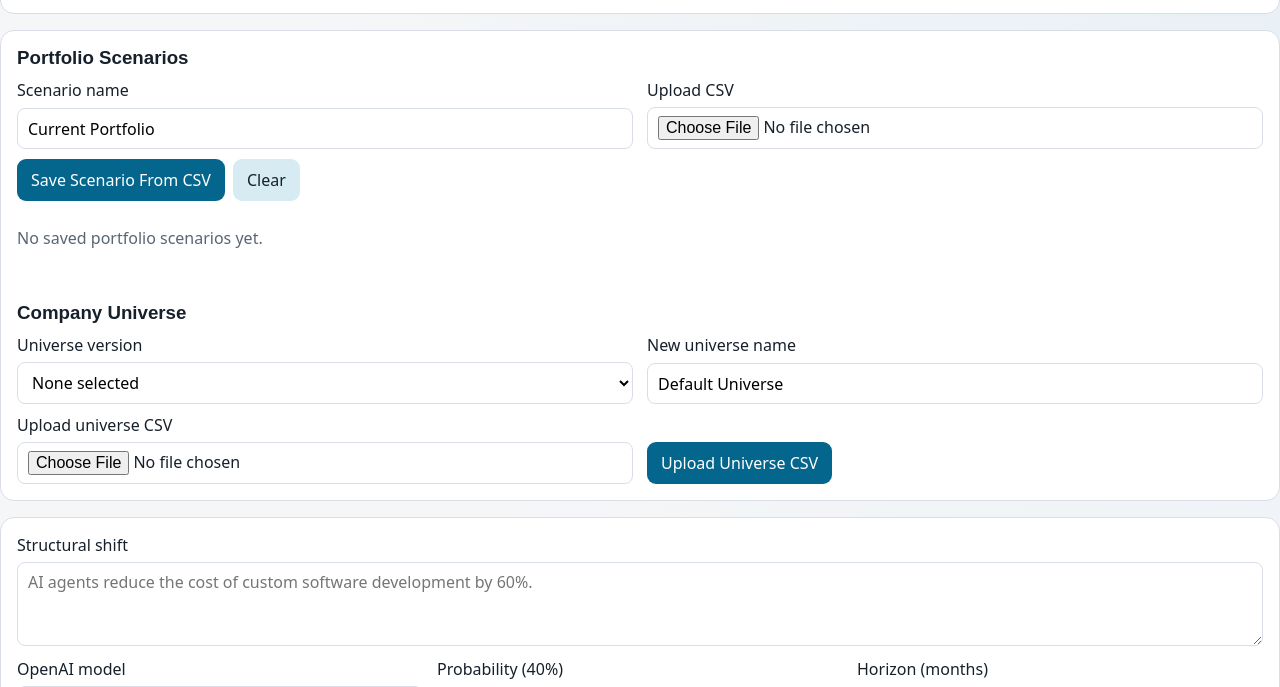
Scenario: SecondOrderEngine › submits and renders tabs/results
The image size is (1280, 687).
In the text box labelled "Structural shift": [640, 604] box [17, 562, 1263, 646], type "AI agents reduce costs materially."
(page scrolled)
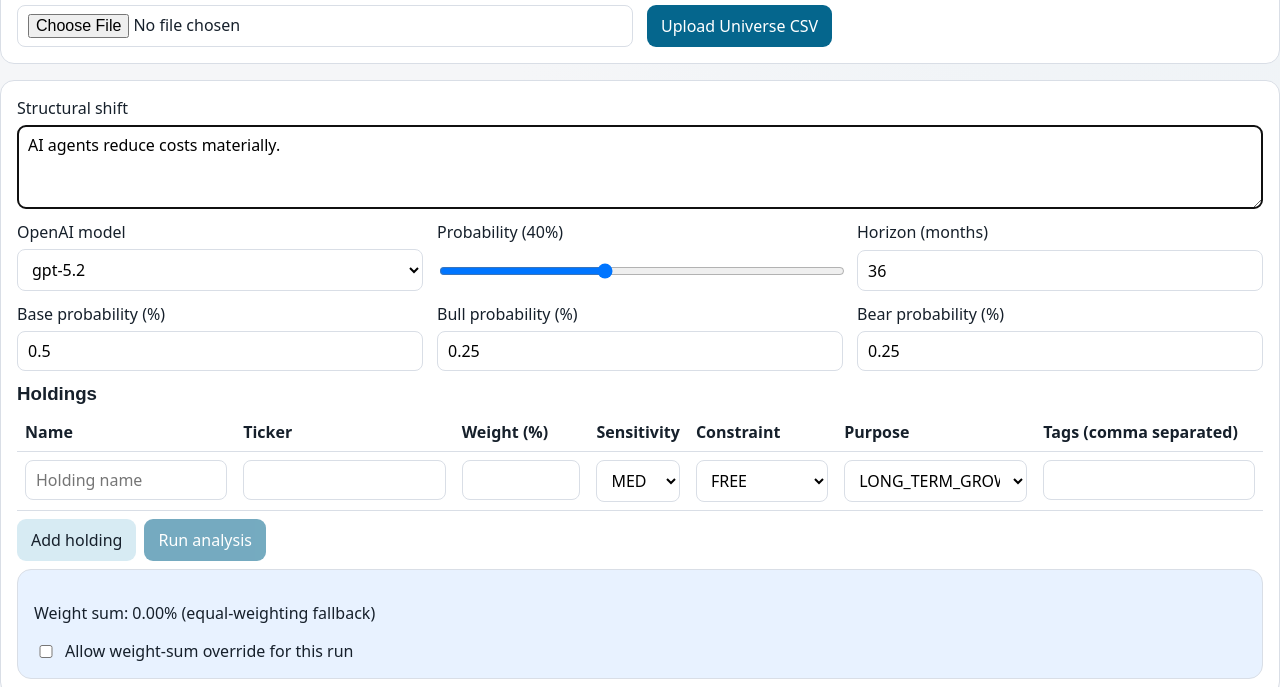
In the field named "holding-name-0": [126, 480] box [25, 460, 227, 500], type "Infra"
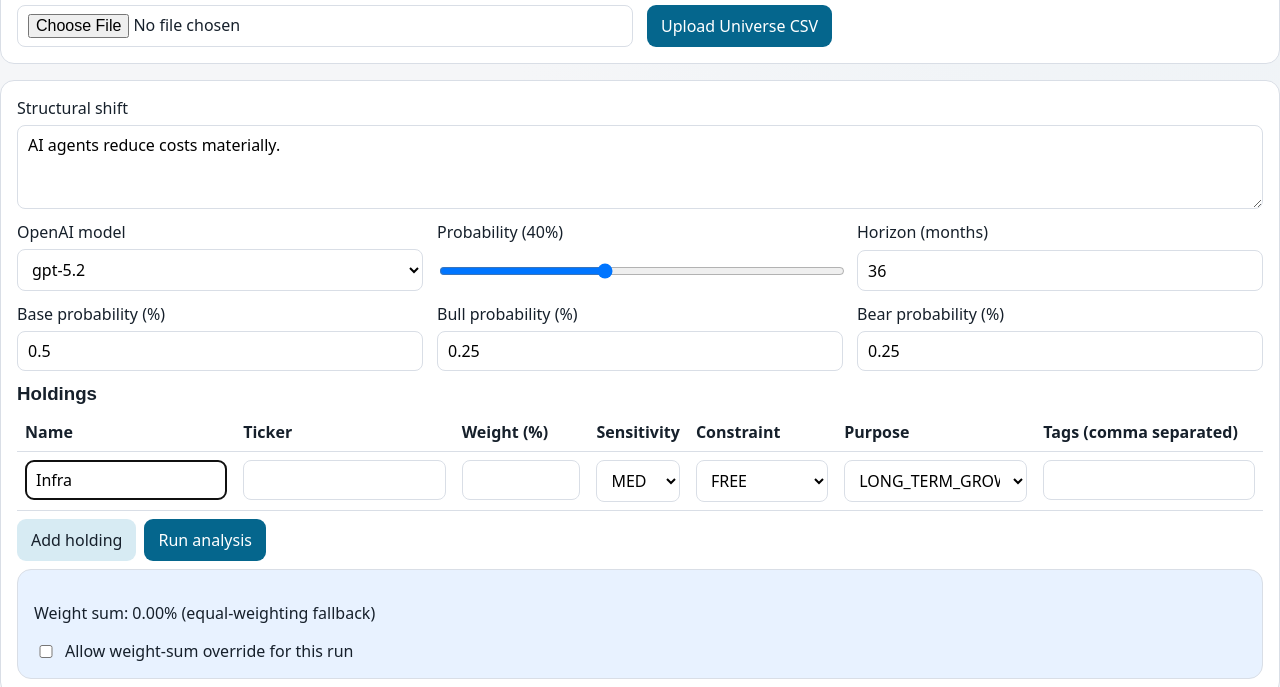
Click the button "Run analysis": [205, 540] box [144, 519, 266, 561]
(page scrolled)
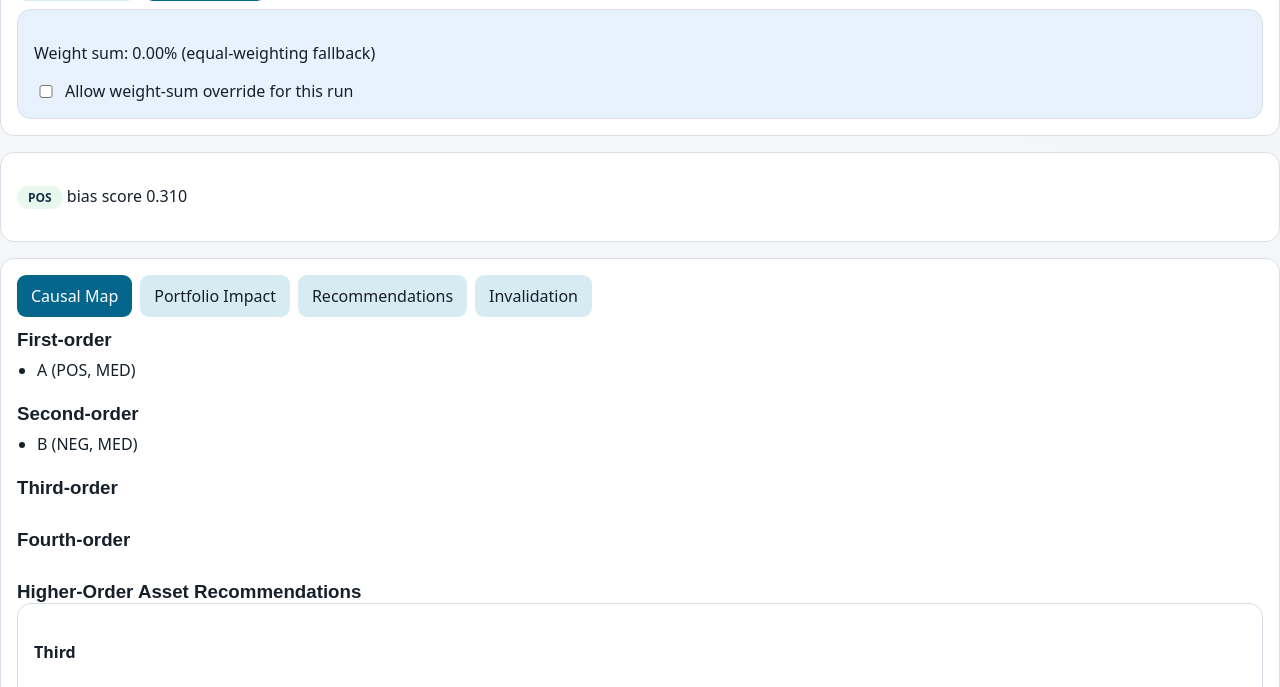
Check: the element with test id "bias-summary" is shown, box [0, 152, 1279, 242]
Click the button "Portfolio Impact": [215, 296] box [140, 275, 290, 317]
(page scrolled)
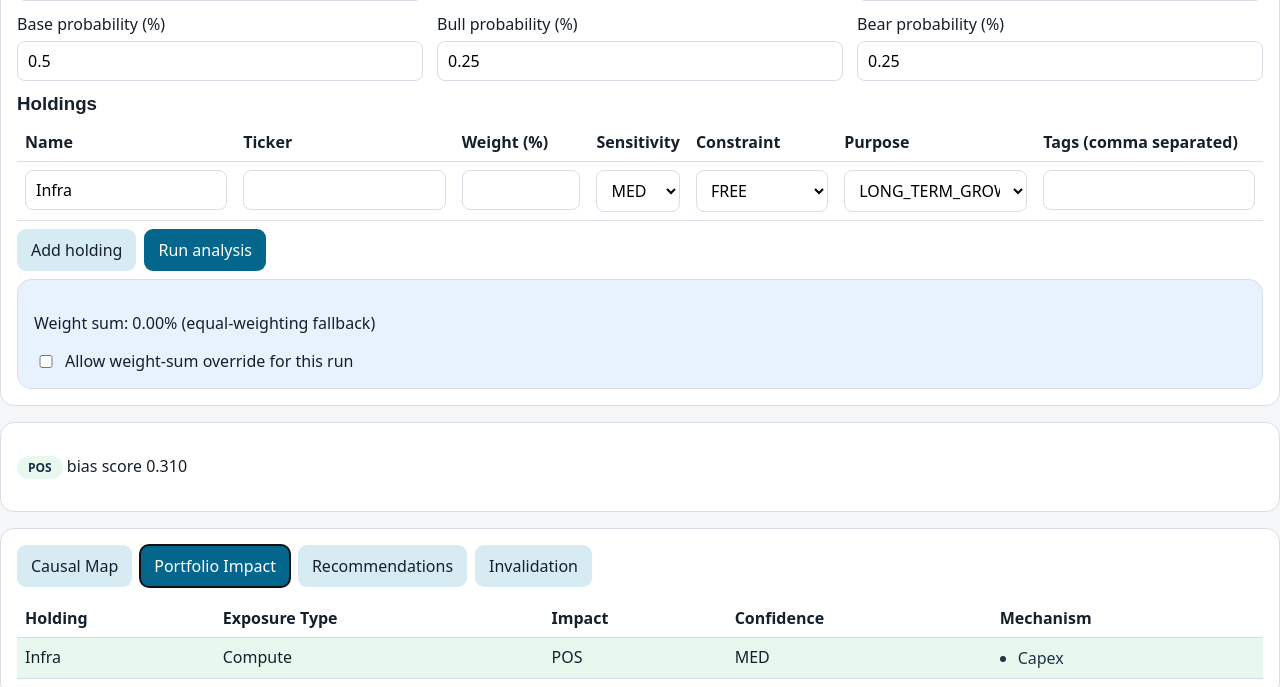
Check: the element with test id "portfolio-tab" is shown, box [17, 599, 1263, 679]
Click the button "Causal Map": [75, 566] box [17, 545, 132, 587]
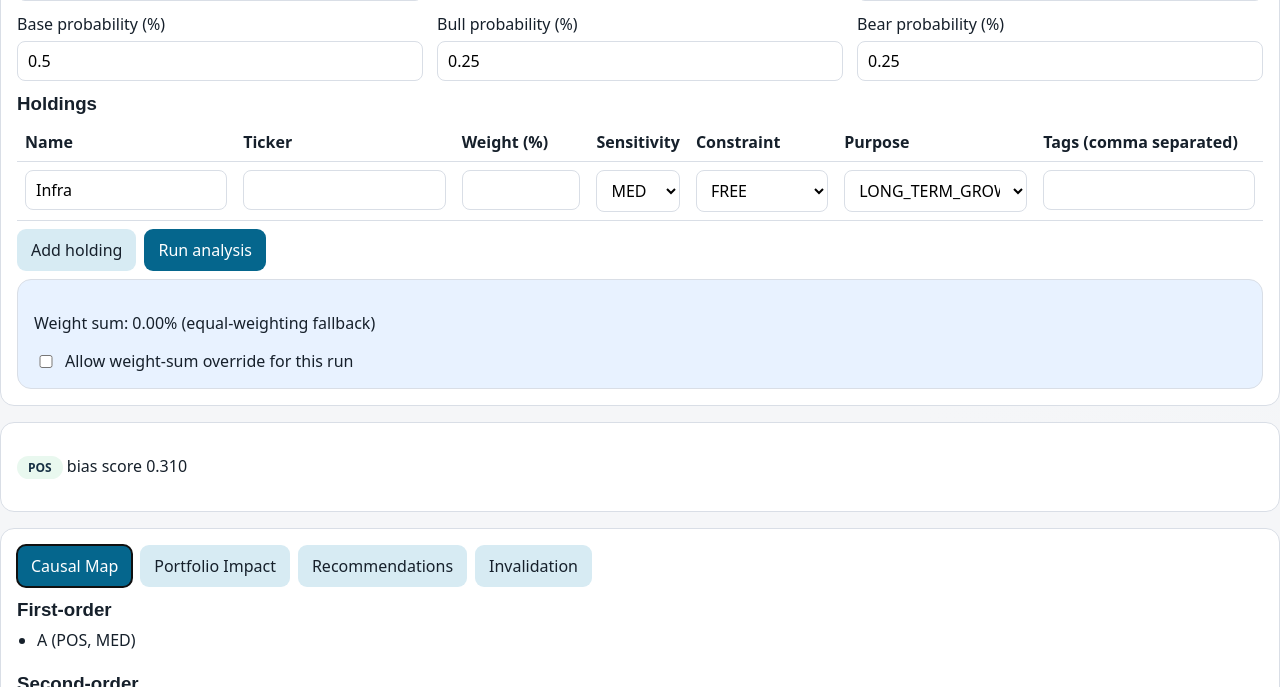
Click the button "Invalidation": [534, 566] box [475, 545, 592, 587]
(page scrolled)
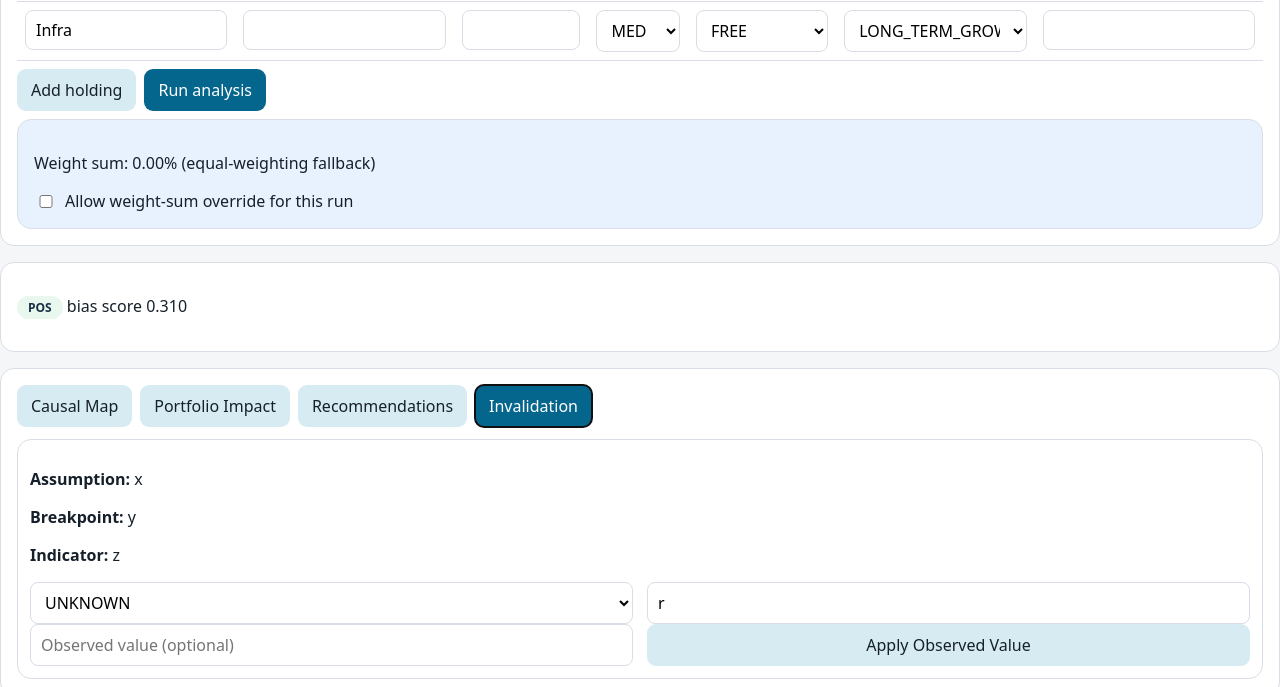
Check: the element with test id "invalidation-tab" is shown, box [17, 439, 1263, 679]
